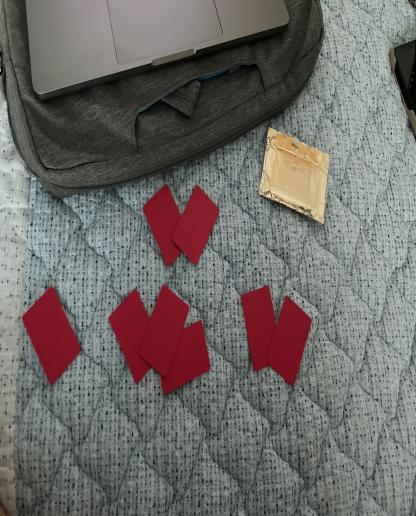ThreeHwatoo: (94, 271, 213, 416)
